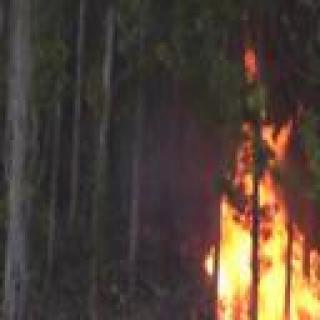fire: (156, 136, 320, 320)
